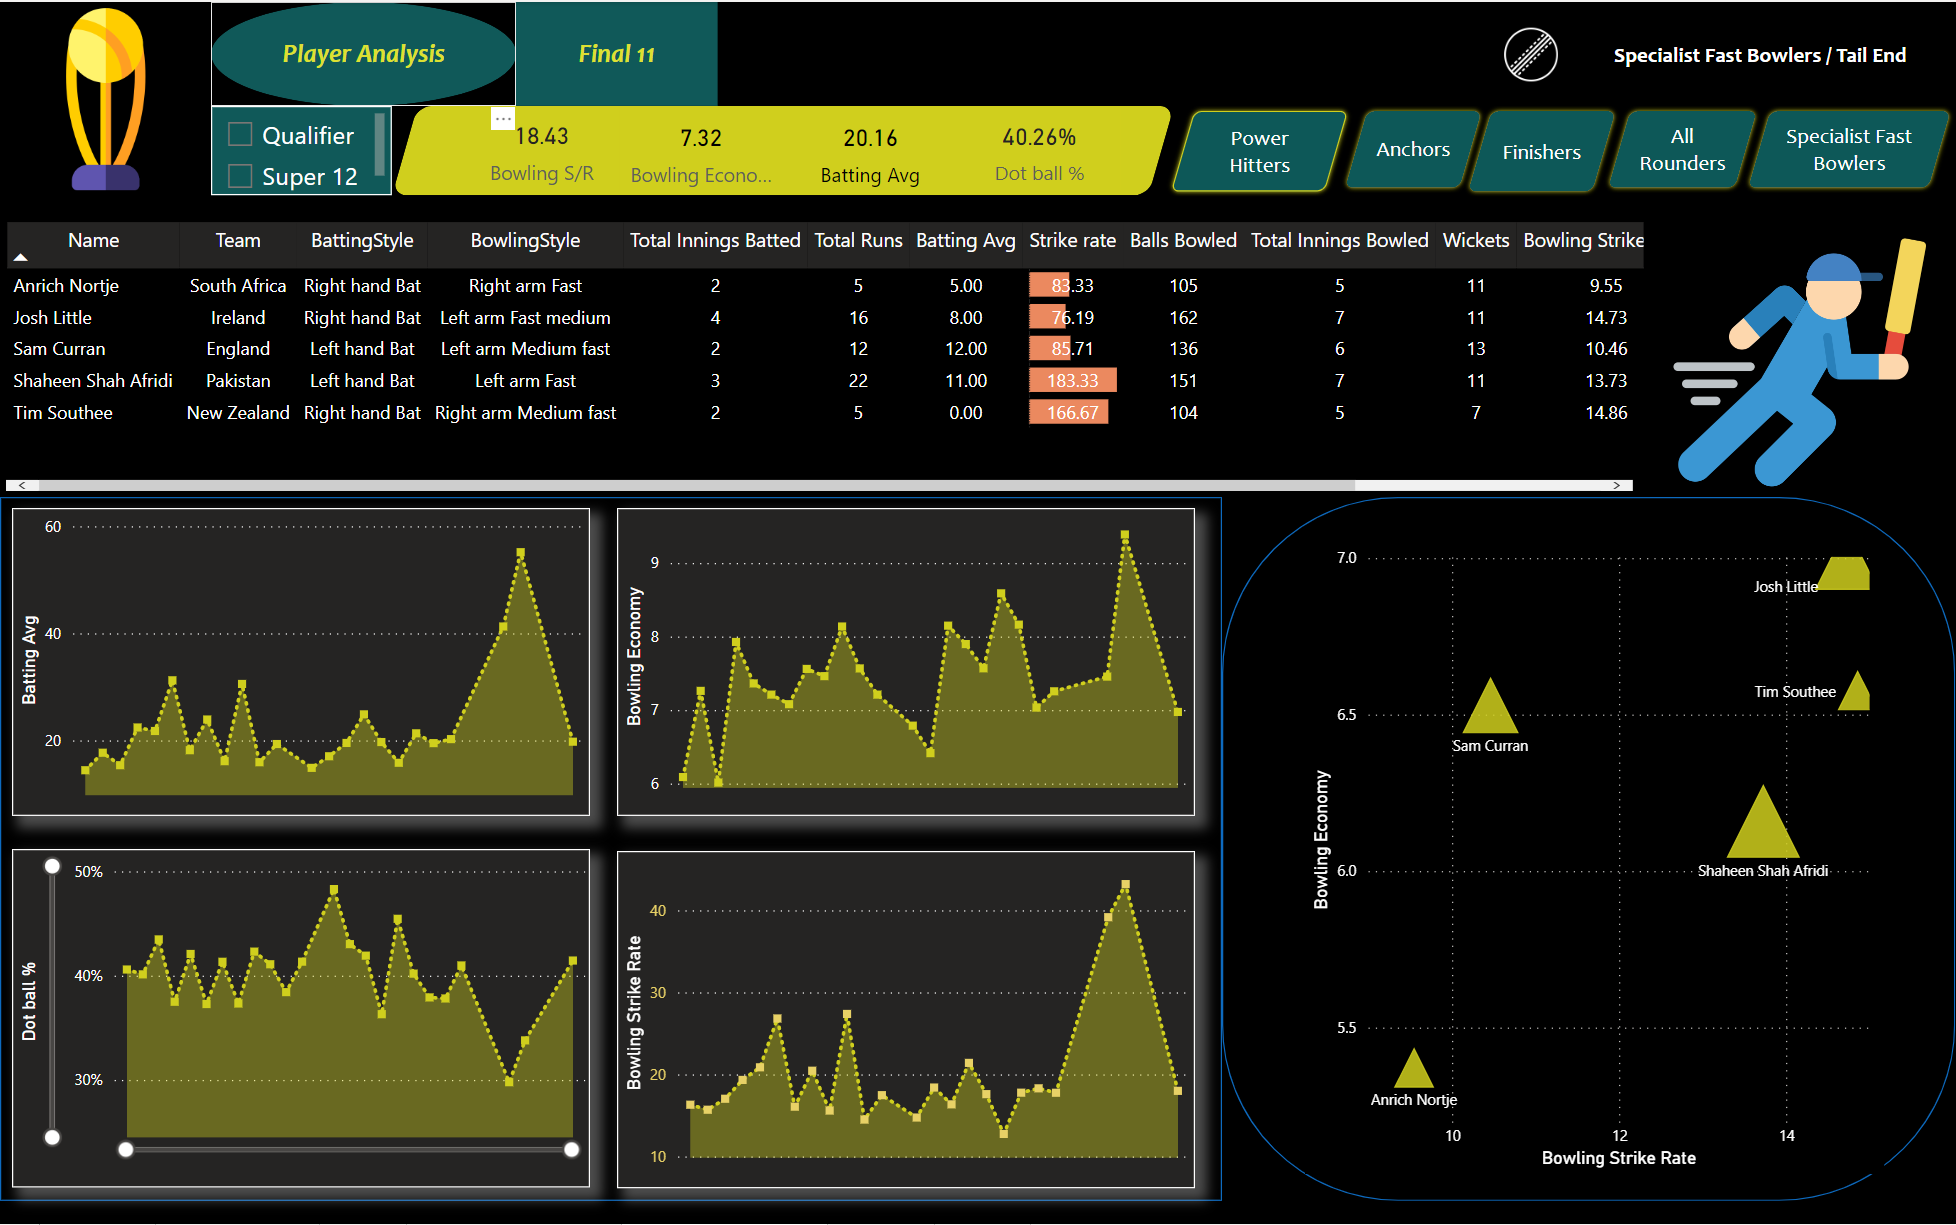

This screenshot's page, from the dashboard's own definition file:
{"tool":"powerbi","page":{"name":"Specialist fast bowler1/tail end","canvas":[1600,1000],"ordinal":4},"visuals":[{"type":"group","id":"g1","title":"Group 2","box":[1282.1,5.4,318.1,74.4],"z":0,"group":"g2"},{"type":"shape","box":[1282.1,5.4,318.1,74.4],"z":0,"group":"g1"},{"type":"shape","box":[321,85.1,639.5,72.9],"z":0},{"type":"image","box":[1226.1,0,53.8,85.7],"z":1000,"group":"g2"},{"type":"card","fields":{"Values":["key_measures.Bowling Economy"]},"box":[506.8,86.2,134,71.7],"z":1000},{"type":"card","fields":{"Values":["key_measures.Dot ball %"]},"box":[784.2,86.3,132.5,69.3],"z":2000},{"type":"card","fields":{"Values":["key_measures.Bowling Strike Rate"]},"box":[379.7,86.2,127.1,69.1],"z":3000},{"type":"card","fields":{"Values":["key_measures.Batting Avg"]},"box":[640.8,86.2,143.3,71.7],"z":4000},{"type":"actionButton","title":"Button Player Ana selected","box":[172.4,0,250,85],"z":5000},{"type":"actionButton","title":"Button Player Ana selected","box":[422.4,0,165,85],"z":6000},{"type":"actionButton","box":[954.4,85.1,153.2,74.2],"z":7000},{"type":"actionButton","box":[1096.4,85.3,120.3,70.8],"z":8000},{"type":"actionButton","box":[1197.6,85.1,128.9,74.2],"z":9000},{"type":"actionButton","box":[1311.9,85.1,130.1,70.5],"z":10000},{"type":"actionButton","box":[1426.1,85.1,173.9,70.5],"z":11000},{"type":"slicer","fields":{"Values":["Dim_match_summary.stage"]},"box":[172.6,85.1,148.3,72.9],"z":12000},{"type":"shape","box":[0,405.2,1000,576.4],"z":13000},{"type":"areaChart","fields":{"Y":["key_measures.Batting Avg"],"Category":["Dim_match_summary.matchDate"]},"box":[9.9,413.8,472.9,252.5],"z":14000},{"type":"areaChart","fields":{"Category":["Dim_match_summary.matchDate"],"Y":["key_measures.Bowling Economy"]},"box":[504.9,413.8,472.9,252.5],"z":15000},{"type":"areaChart","fields":{"Category":["Dim_match_summary.matchDate"],"Y":["key_measures.Dot ball %"]},"box":[9.9,693.3,472.9,277.1],"z":16000},{"type":"areaChart","fields":{"Category":["Dim_match_summary.matchDate"],"Y":["key_measures.Bowling Strike Rate"]},"box":[504.9,694.6,472.9,275.9],"z":17000},{"type":"shape","box":[1000,405.3,599.8,575.9],"z":18000},{"type":"scatterChart","fields":{"Size":["key_measures.Total Runs"],"Category":["Dim_players.name"],"X":["key_measures.Bowling Strike Rate"],"Y":["key_measures.Bowling Economy"]},"box":[1067.7,440.9,474.1,518.5],"z":19000},{"type":"image","box":[0,0,172.4,158.9],"z":20000},{"type":"tableEx","fields":{"Values":["Dim_players.name","Dim_players.team","Dim_players.battingStyle","Dim_players.bowlingStyle","key_measures.Total Innings Batted","key_measures.Total Runs","key_measures.Batting Avg","key_measures.Strike rate","key_measures.balls Bowled","key_measures.Total Innings Bowled","key_measures.wickets","key_measures.Bowling Strike Rate"]},"box":[0,174.9,1349.8,230.4],"z":21000},{"type":"image","box":[1349.8,185.2,250,220.1],"z":22000},{"type":"group","id":"g2","title":"Group 1","box":[1226.1,0,373.7,85.3],"z":23000}]}

Visuals, with their boxes in screenshot pixels (x1, y1, x2, y2), scaled from the page's 1600x1000 canvas onto the 1956x1225 screenshot:
"Group 2" group: box(1567, 7, 1955, 98)
shape: box(1567, 7, 1955, 98)
shape: box(392, 104, 1174, 194)
image: box(1499, 0, 1565, 105)
card - key_measures.Bowling Economy: box(620, 106, 783, 193)
card - key_measures.Dot ball %: box(959, 106, 1121, 191)
card - key_measures.Bowling Strike Rate: box(464, 106, 620, 190)
card - key_measures.Batting Avg: box(783, 106, 959, 193)
"Button Player Ana selected" actionButton: box(211, 0, 516, 104)
"Button Player Ana selected" actionButton: box(516, 0, 718, 104)
actionButton: box(1167, 104, 1354, 195)
actionButton: box(1340, 104, 1487, 191)
actionButton: box(1464, 104, 1622, 195)
actionButton: box(1604, 104, 1763, 191)
actionButton: box(1743, 104, 1955, 191)
slicer - Dim_match_summary.stage: box(211, 104, 392, 194)
shape: box(0, 496, 1222, 1202)
areaChart - key_measures.Batting Avg x Dim_match_summary.matchDate: box(12, 507, 590, 816)
areaChart - Dim_match_summary.matchDate x key_measures.Bowling Economy: box(617, 507, 1195, 816)
areaChart - Dim_match_summary.matchDate x key_measures.Dot ball %: box(12, 849, 590, 1189)
areaChart - Dim_match_summary.matchDate x key_measures.Bowling Strike Rate: box(617, 851, 1195, 1189)
shape: box(1222, 496, 1955, 1202)
scatterChart - key_measures.Total Runs x Dim_players.name: box(1305, 540, 1885, 1175)
image: box(0, 0, 211, 195)
tableEx - Dim_players.name x Dim_players.team: box(0, 214, 1650, 496)
image: box(1650, 227, 1955, 496)
"Group 1" group: box(1499, 0, 1955, 104)
